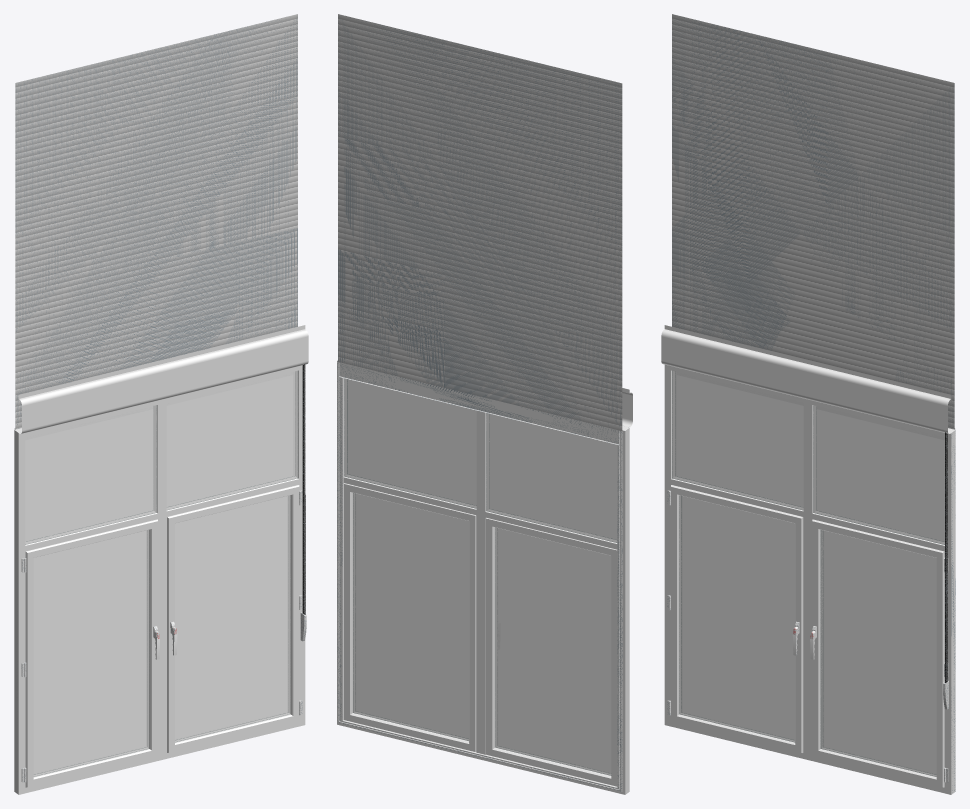
Rendered from Window2_150x200x[2 casement_blinds].dae.
3 renders of one model, left to right at view 1: azimuth 30°, elevation 25°; view 2: azimuth 150°, elevation 25°; view 3: azimuth 330°, elevation 25°, orthographic.
Parts seen in each view (by area): view 1: group_6 (×4), group_27, group_21 (×2), group_23 (×2), group_22 (×2), group_7 (×4), group_32; view 2: group_27 (×2), group_6 (×4), group_21 (×2), group_23 (×2), group_7 (×4), group_22, group_26 (×2); view 3: group_6 (×4), group_27, group_21 (×2), group_23 (×2), group_22 (×3), group_7 (×4), group_32.
Part boxes in pixels (<box>): group_6 (×4): <box>33,495,290,776</box>; group_27: <box>15,14,297,428</box>; group_21 (×2): <box>166,370,298,510</box>; group_23 (×2): <box>25,405,156,544</box>; group_22 (×2): <box>14,365,305,794</box>; group_7 (×4): <box>25,485,299,787</box>; group_32: <box>18,325,308,433</box>; group_27 (×2): <box>338,14,622,444</box>; group_6 (×4): <box>353,493,611,775</box>; group_21 (×2): <box>344,378,476,508</box>; group_23 (×2): <box>486,413,617,542</box>; group_7 (×4): <box>344,483,617,786</box>; group_22: <box>337,360,629,794</box>; group_26 (×2): <box>337,362,622,791</box>; group_6 (×4): <box>679,495,936,776</box>; group_27: <box>672,14,954,428</box>; group_21 (×2): <box>813,405,944,544</box>; group_23 (×2): <box>672,370,803,510</box>; group_22 (×3): <box>664,364,955,794</box>; group_7 (×4): <box>671,485,944,787</box>; group_32: <box>661,325,951,433</box>.
Size of the model in its own units: 59.06 by 4.18 by 139.
12 materials, 1 textured.
